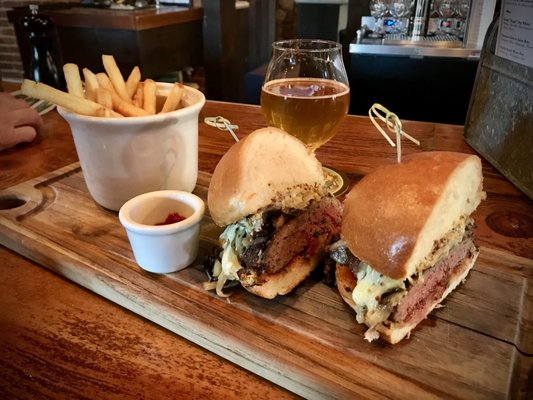pizza: (56, 83, 206, 213), (260, 39, 351, 158), (119, 190, 206, 274)
soup: (328, 151, 484, 347), (205, 126, 346, 300)
